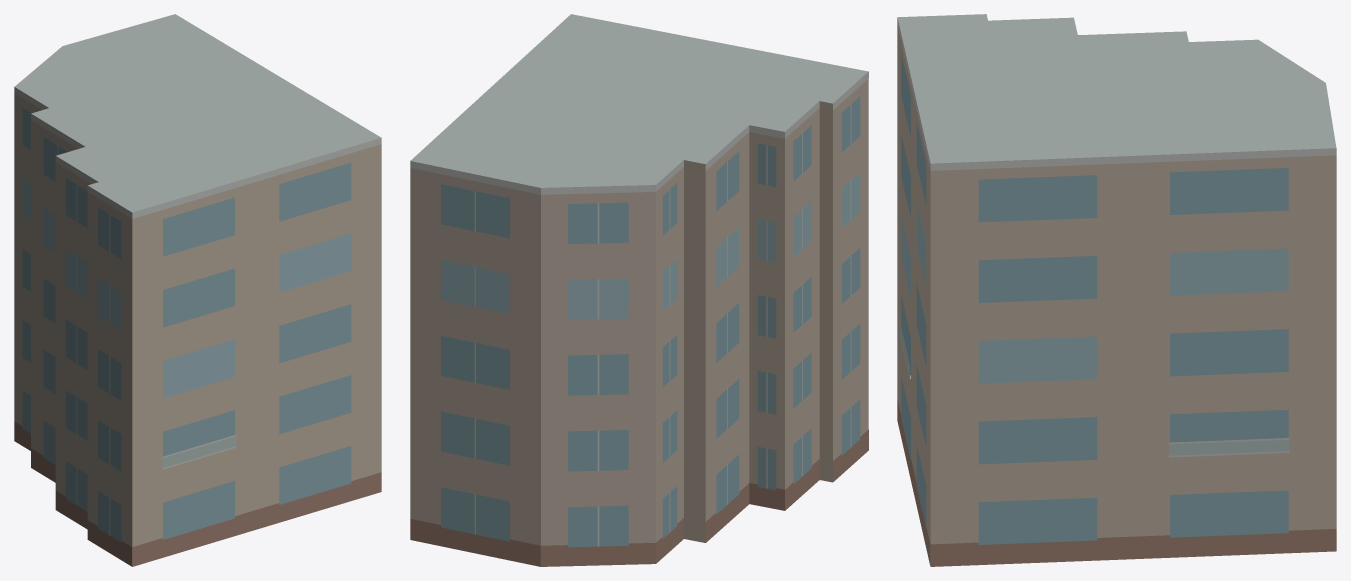
The model's file is survey-upis-32701539.glb.
The picture shows the model from 3 angles, left to right: view 1: azimuth 30°, elevation 25°; view 2: azimuth 150°, elevation 25°; view 3: azimuth 270°, elevation 25°; orthographic projection. The views are drawn at different scales.
Parts seen in each view (by area): view 1: survey-upis-32701539.tmp; view 2: survey-upis-32701539.tmp; view 3: survey-upis-32701539.tmp.
Part boxes in pixels (box(x1,y1,x2,y2)): survey-upis-32701539.tmp: box(14, 14, 381, 566); survey-upis-32701539.tmp: box(410, 14, 868, 566); survey-upis-32701539.tmp: box(897, 14, 1336, 566).
Bounding box in the file's own units: 10.75 × 13.5 × 13.33.
